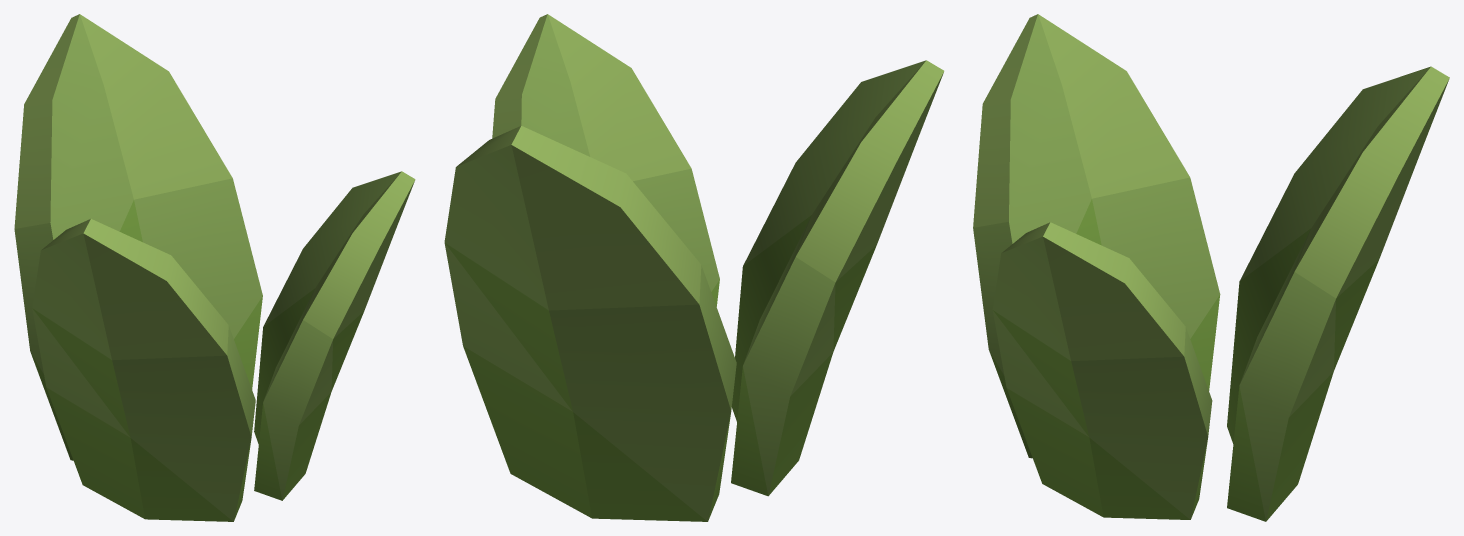
File: itch_kaykit_forest_grass_1_b_color1.glb
The picture shows the model from 3 angles, left to right: view 1: azimuth 30°, elevation 25°; view 2: azimuth 150°, elevation 25°; view 3: azimuth 270°, elevation 25°; orthographic projection. The views are drawn at different scales.
Visible parts, largest first — view 1: Grass_1_B_Color1; view 2: Grass_1_B_Color1; view 3: Grass_1_B_Color1.
Boxes of the visible parts, left/top/right/bottom form: Grass_1_B_Color1: left=14, top=14, right=415, bottom=521; Grass_1_B_Color1: left=444, top=14, right=944, bottom=521; Grass_1_B_Color1: left=973, top=14, right=1449, bottom=521.
Size of the model in its own units: 0.8725 by 0.9285 by 0.96.
